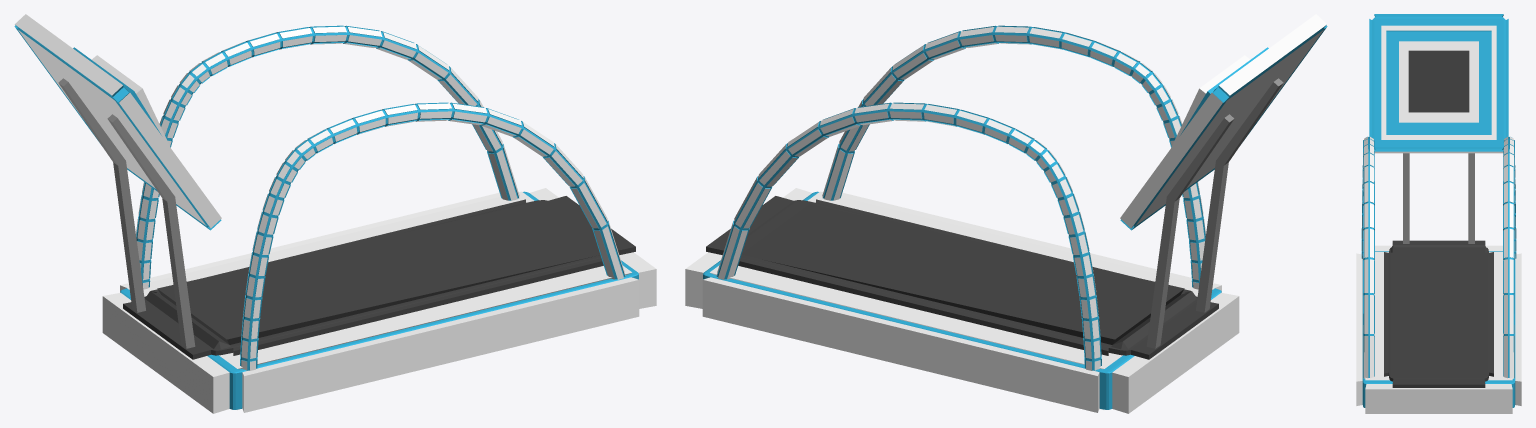
Rendered from Velo-Track.fbx.
The picture shows the model from 3 angles, left to right: view 1: azimuth 30°, elevation 25°; view 2: azimuth 150°, elevation 25°; view 3: azimuth 270°, elevation 25°; orthographic projection. The views are drawn at different scales.
Parts seen in each view (by area): view 1: Velo-track; view 2: Velo-track; view 3: Velo-track.
Part boxes in pixels (x1,y1,x2,y2): Velo-track: (14,14,656,413); Velo-track: (685,14,1327,413); Velo-track: (1356,14,1521,413).
Bounding box in the file's own units: 670 × 412 × 268.
